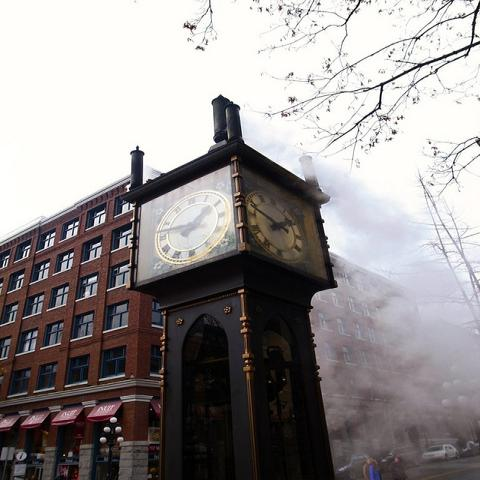car: (377, 446, 420, 472), (335, 454, 371, 479), (421, 443, 460, 462), (459, 440, 479, 457)
